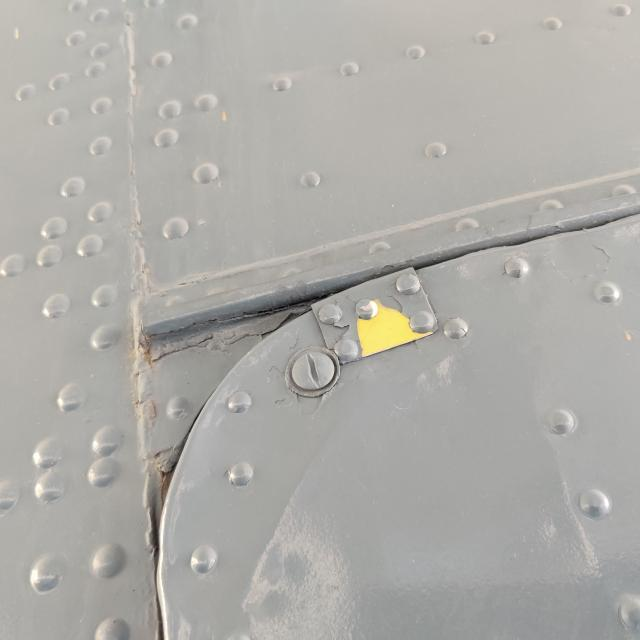paint-off: (343, 293, 444, 376)
